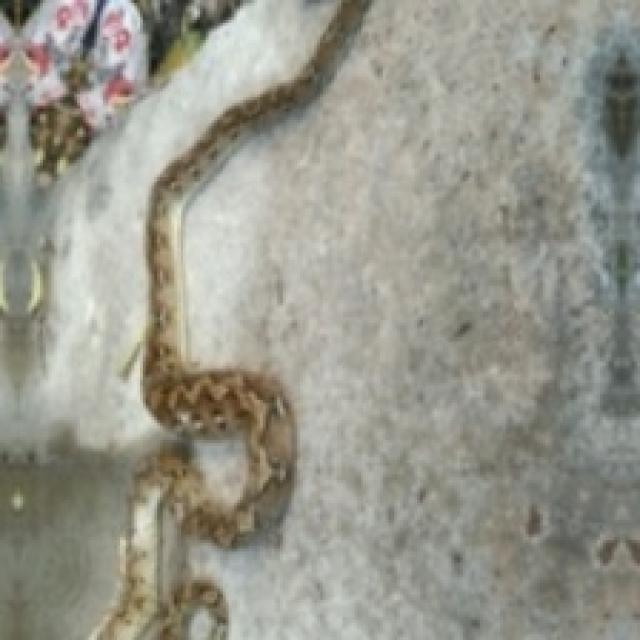reticulated python: (100, 0, 366, 639)
